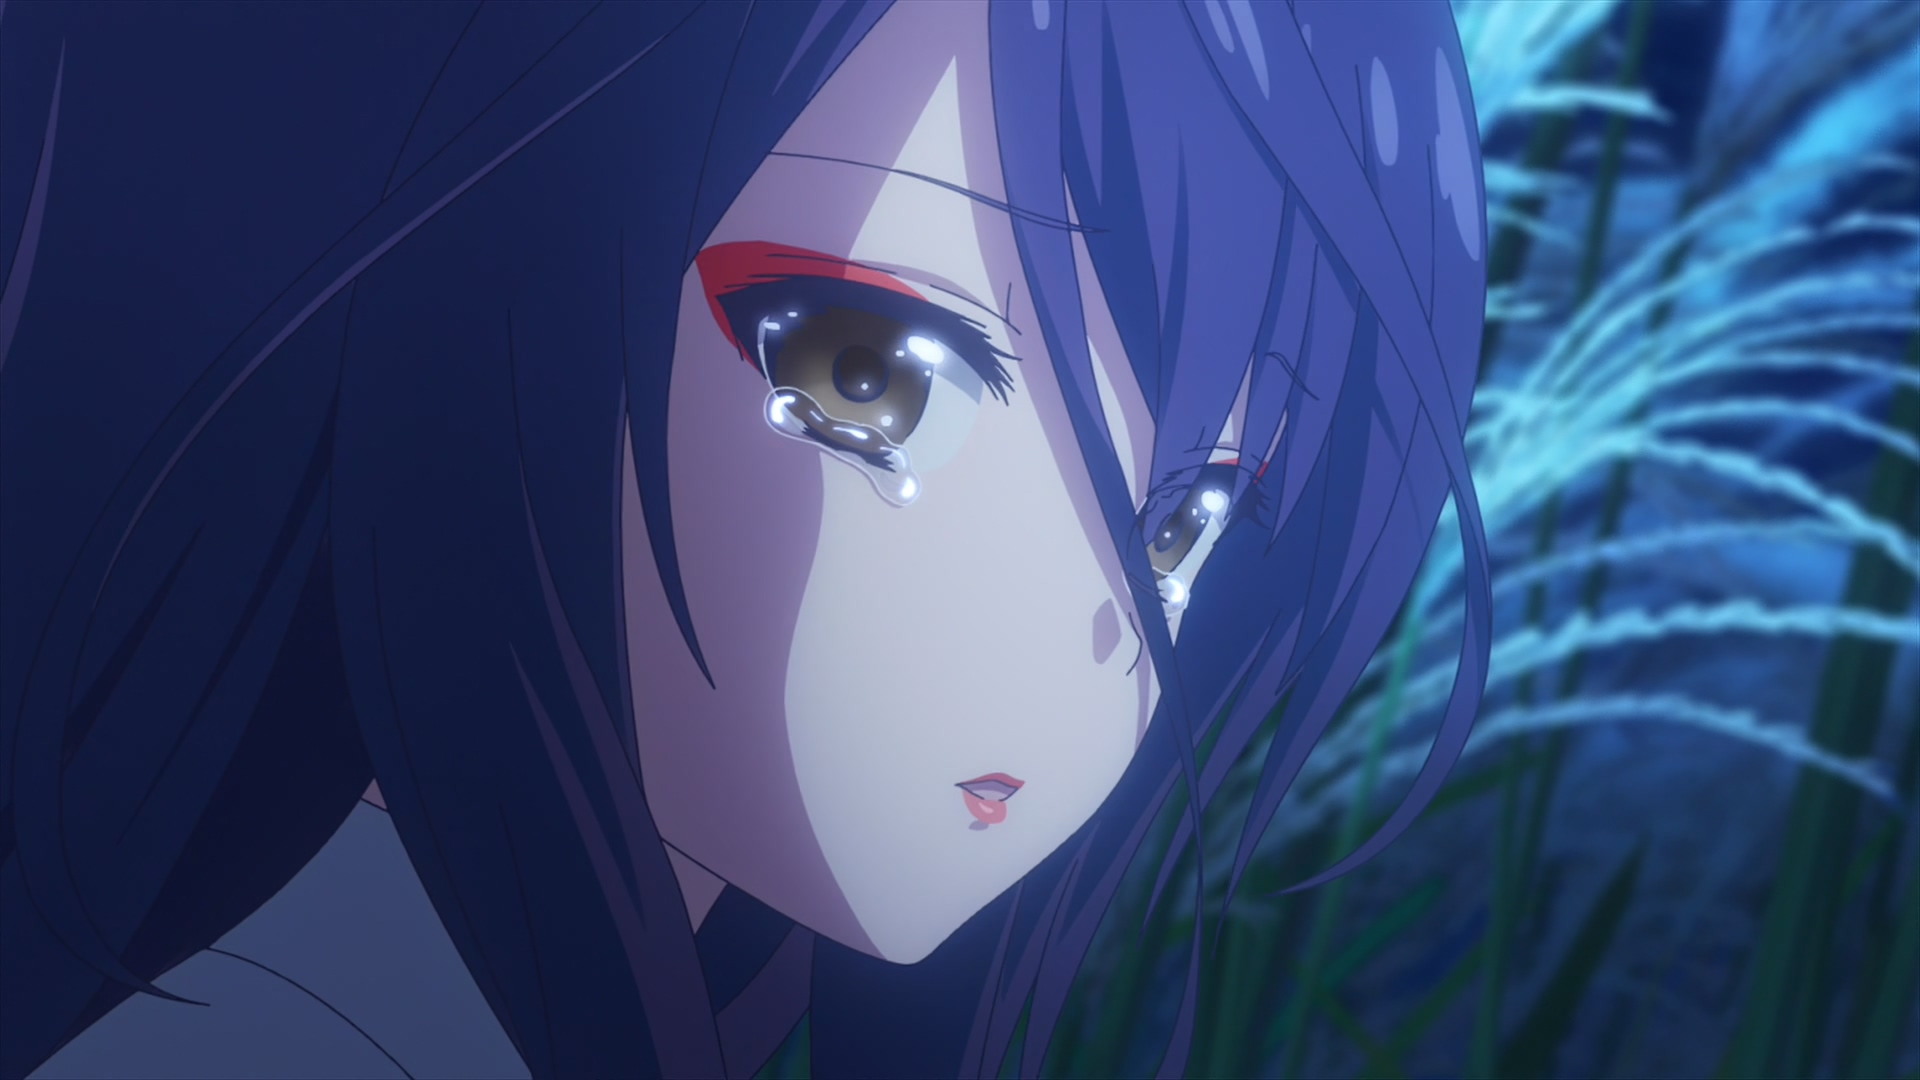皋: (1, 1, 1491, 1080)
